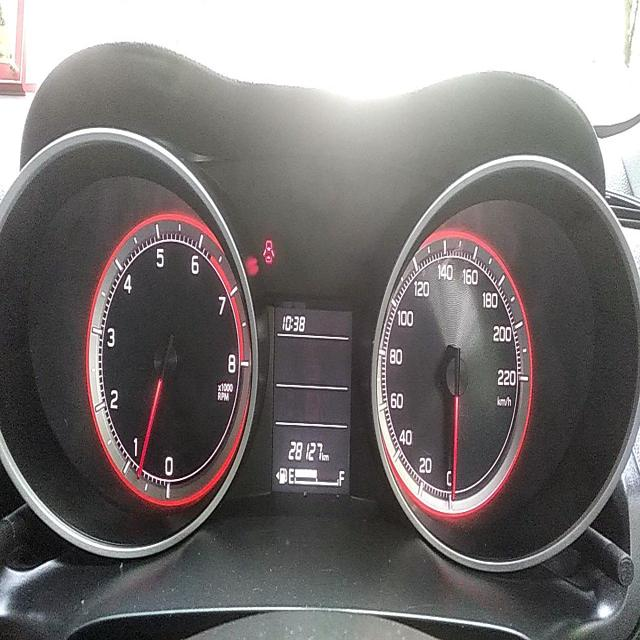odometer: (286, 436, 323, 464)
